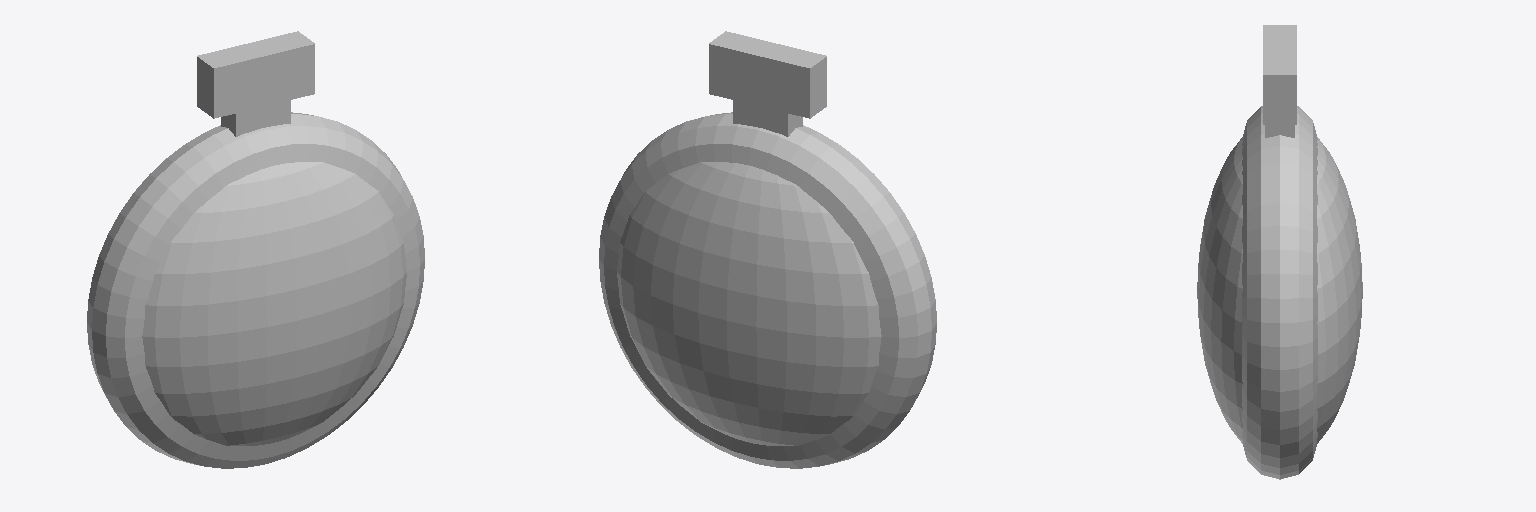
File: timer.obj
The picture shows the model from 3 angles: view 1: azimuth 30°, elevation 25°; view 2: azimuth 150°, elevation 25°; view 3: azimuth 270°, elevation 25°; orthographic projection.
Visible parts, largest first — view 1: 立方体.001; view 2: 立方体.001; view 3: 立方体.001.
Boxes of the visible parts, x1,y1,x2,y2 form: 立方体.001: [87, 31, 424, 468]; 立方体.001: [599, 31, 936, 468]; 立方体.001: [1197, 25, 1362, 479].
Bounding box in the file's own units: 2.2 × 2.64 × 0.9619.